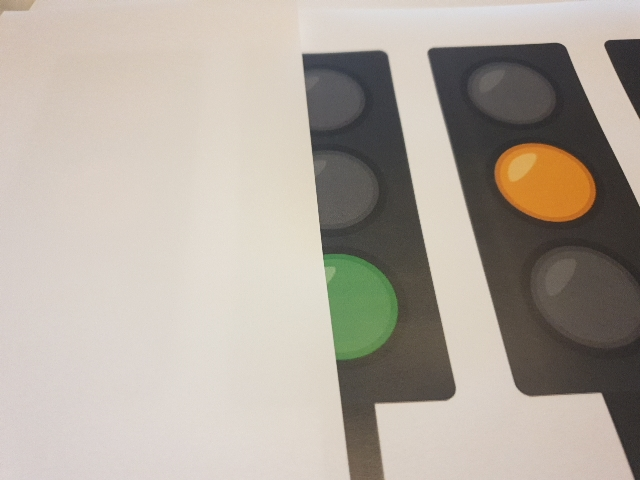amber: (467, 63, 606, 360)
green: (286, 55, 388, 372)
